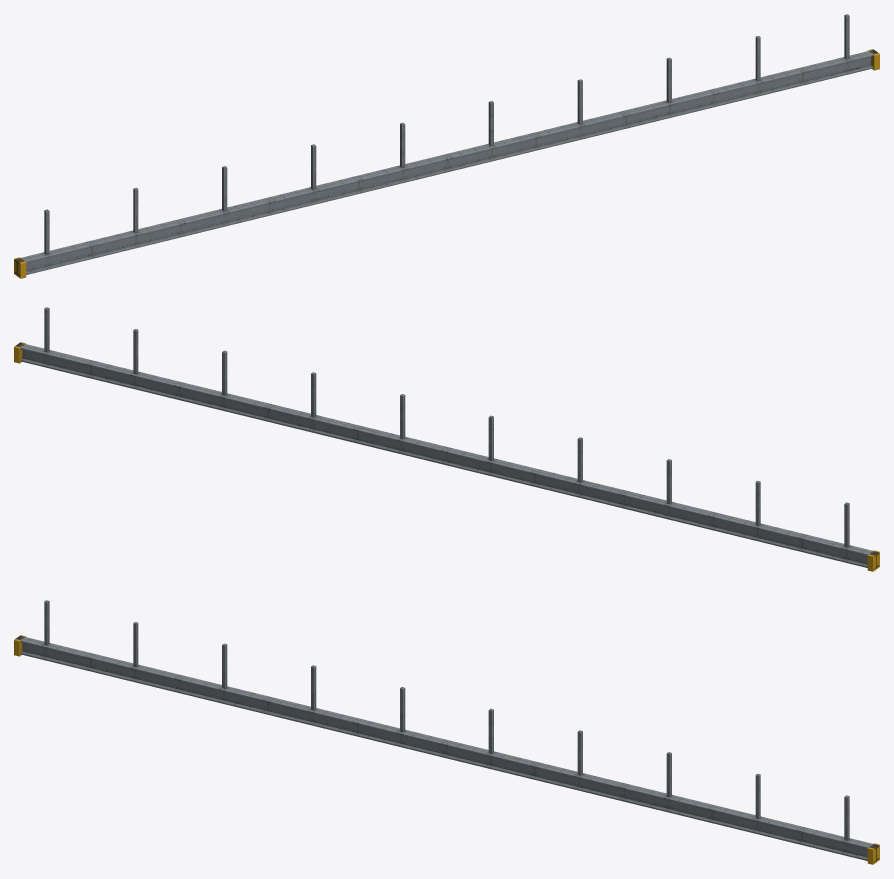
The model's file is base_armory_rail.glb.
3 views of the same model, one above another, from view 1: azimuth 30°, elevation 25°; view 2: azimuth 150°, elevation 25°; view 3: azimuth 330°, elevation 25° (orthographic).
Visible parts, largest first — view 1: base_armory_rail; view 2: base_armory_rail; view 3: base_armory_rail.
Boxes of the visible parts, x1,y1,x2,y2 form: base_armory_rail: (14, 14, 879, 278); base_armory_rail: (14, 307, 879, 571); base_armory_rail: (14, 600, 879, 864).
Bounding box in the file's own units: 29 × 1.9 × 0.4.
2 materials, 2 textured.
